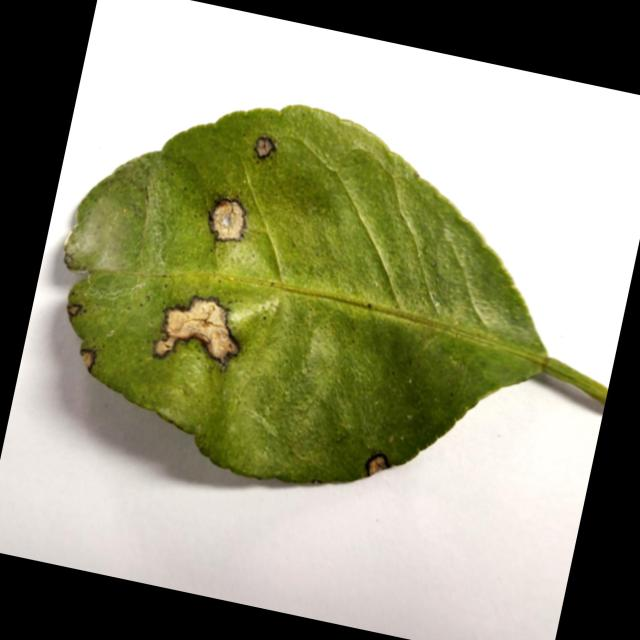antracnose: (64, 106, 605, 483), (154, 296, 239, 365), (210, 199, 246, 242), (366, 454, 389, 476), (255, 137, 274, 158), (81, 350, 95, 371), (67, 304, 82, 316)
